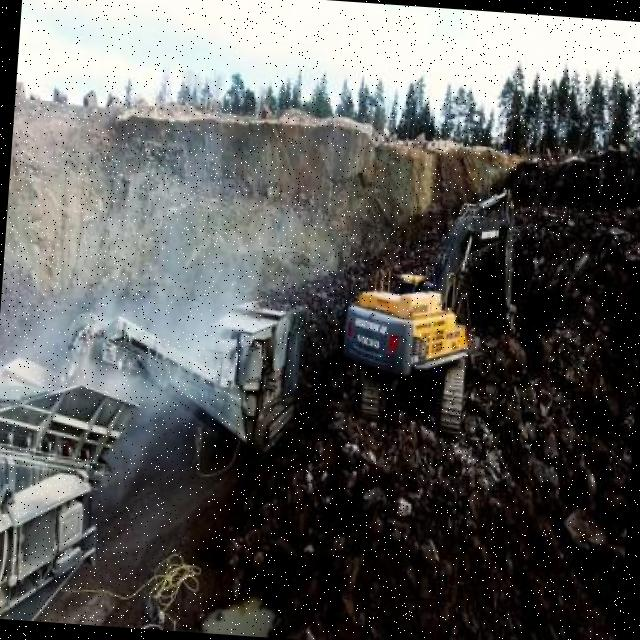Excavator: (342, 172, 526, 430)
